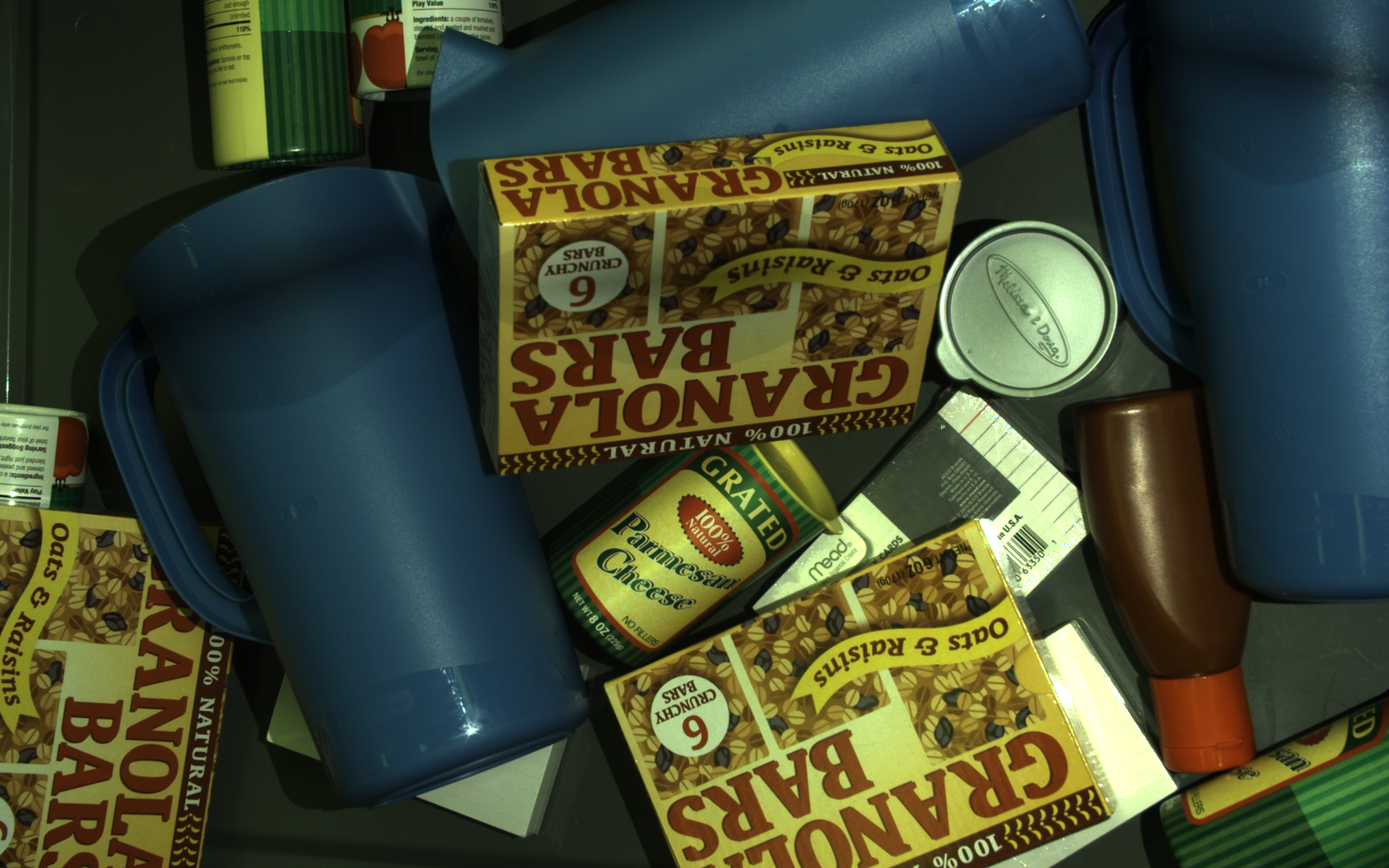defect: (98, 168, 459, 412), (473, 187, 932, 370), (1084, 0, 1389, 185)
